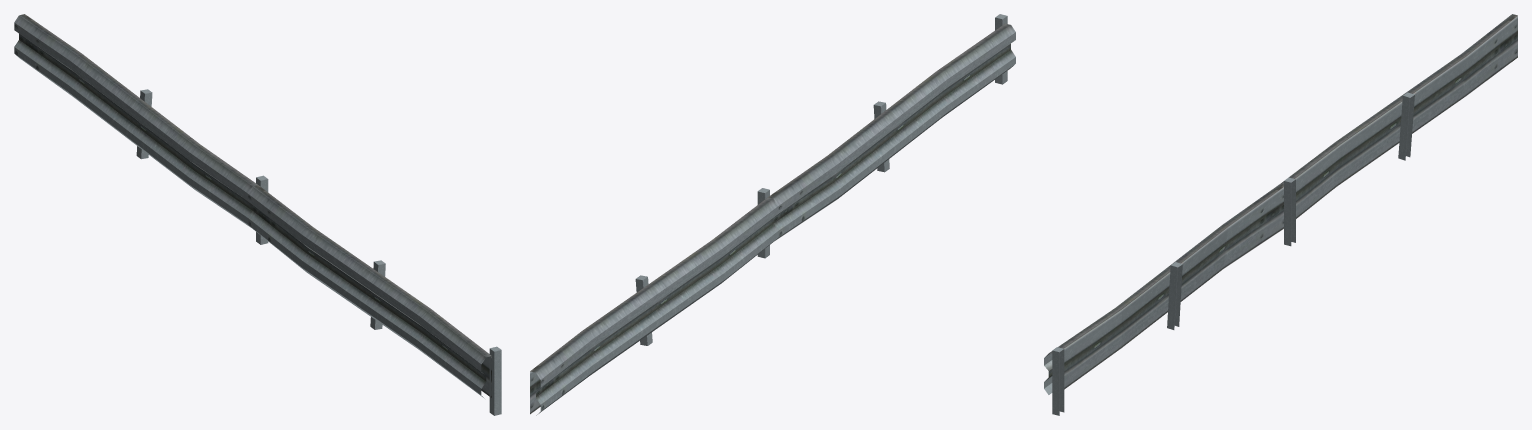
File: roadFence.fbx
3 views of the same model, side by side, from view 1: azimuth 30°, elevation 25°; view 2: azimuth 150°, elevation 25°; view 3: azimuth 330°, elevation 25° (orthographic). The views are drawn at different scales.
Parts seen in each view (by area): view 1: roadFance; view 2: roadFance; view 3: roadFance.
Part boxes in pixels (x1=…): roadFance: x1=14, y1=14, x2=501, y2=415; roadFance: x1=530, y1=14, x2=1015, y2=415; roadFance: x1=1044, y1=14, x2=1517, y2=415.
Bounding box in the file's own units: 0.4385 × 1.12 × 14.73.
